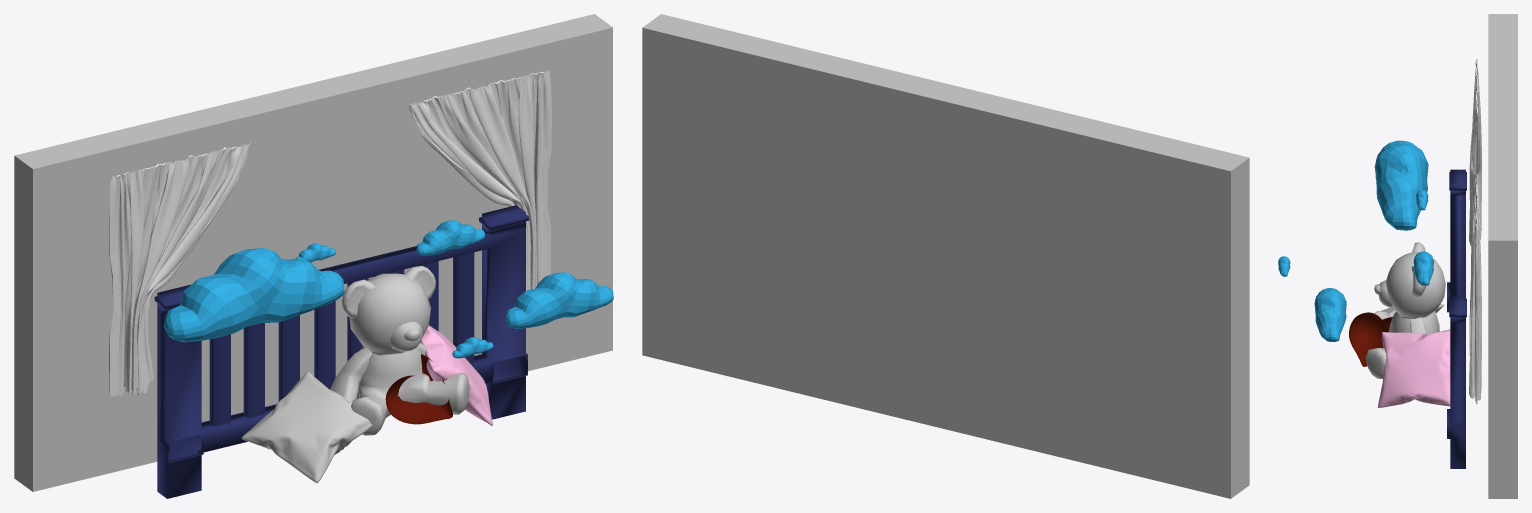
Rendered from Escena-Atras.fbx.
3 views of the same model, side by side, from view 1: azimuth 30°, elevation 25°; view 2: azimuth 150°, elevation 25°; view 3: azimuth 270°, elevation 25° (orthographic). The views are drawn at different scales.
Parts seen in each view (by area): view 1: Cube, mesh_id4, Atras-Cama, Oso_Low, cloud, Plane, cloud.001, Plane.001, Cube.001, cloud.004; view 2: Cube; view 3: Cube, Atras-Cama, Plane.001, Oso_Low, cloud, mesh_id4, cloud.001, Cube.001, cloud.004.
Boxes of the visible parts, left/top/right/bottom form: Cube: left=14, top=14, right=612, bottom=491; mesh_id4: left=109, top=70, right=551, bottom=396; Atras-Cama: left=154, top=205, right=528, bottom=498; Oso_Low: left=330, top=266, right=469, bottom=435; cloud: left=164, top=247, right=344, bottom=342; Plane: left=241, top=371, right=372, bottom=483; cloud.001: left=505, top=272, right=613, bottom=328; Plane.001: left=420, top=325, right=492, bottom=425; Cube.001: left=385, top=354, right=452, bottom=424; cloud.004: left=416, top=220, right=484, bottom=255; Cube: left=642, top=14, right=1249, bottom=498; Cube: left=1488, top=14, right=1517, bottom=498; Atras-Cama: left=1447, top=169, right=1466, bottom=468; Plane.001: left=1377, top=329, right=1450, bottom=407; Oso_Low: left=1365, top=242, right=1445, bottom=378; cloud: left=1374, top=140, right=1428, bottom=230; mesh_id4: left=1469, top=58, right=1481, bottom=404; cloud.001: left=1314, top=288, right=1346, bottom=341; Cube.001: left=1349, top=312, right=1393, bottom=366; cloud.004: left=1413, top=251, right=1433, bottom=285.
Bounding box in the file's own units: 788 × 441 × 353.
